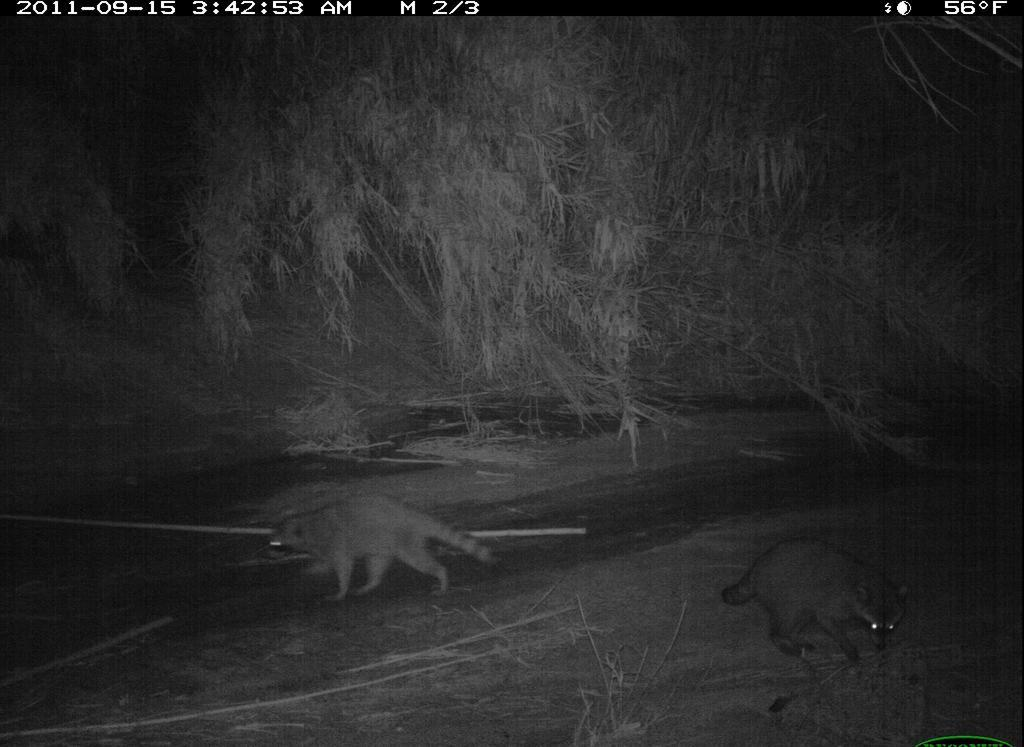raccoon: (710, 529, 916, 679), (262, 491, 504, 611)
